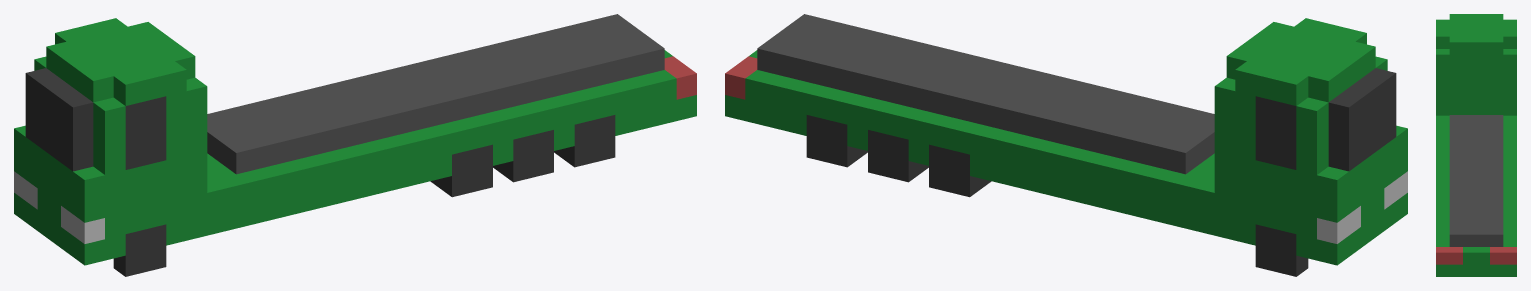
Rendered from truck-v3-green.gltf.
The picture shows the model from 3 angles, left to right: view 1: azimuth 30°, elevation 25°; view 2: azimuth 150°, elevation 25°; view 3: azimuth 270°, elevation 25°; orthographic projection. The views are drawn at different scales.
Parts seen in each view (by area): view 1: model, wheels; view 2: model, wheels; view 3: model.
Part boxes in pixels (x1,y1,x2,y2): model: (14, 14, 696, 265); wheels: (113, 115, 615, 276); model: (725, 14, 1407, 265); wheels: (806, 115, 1308, 276); model: (1436, 14, 1516, 276).
Bounding box in the file's own units: 3 × 0.9 × 0.6.
2 materials, 2 textured.
